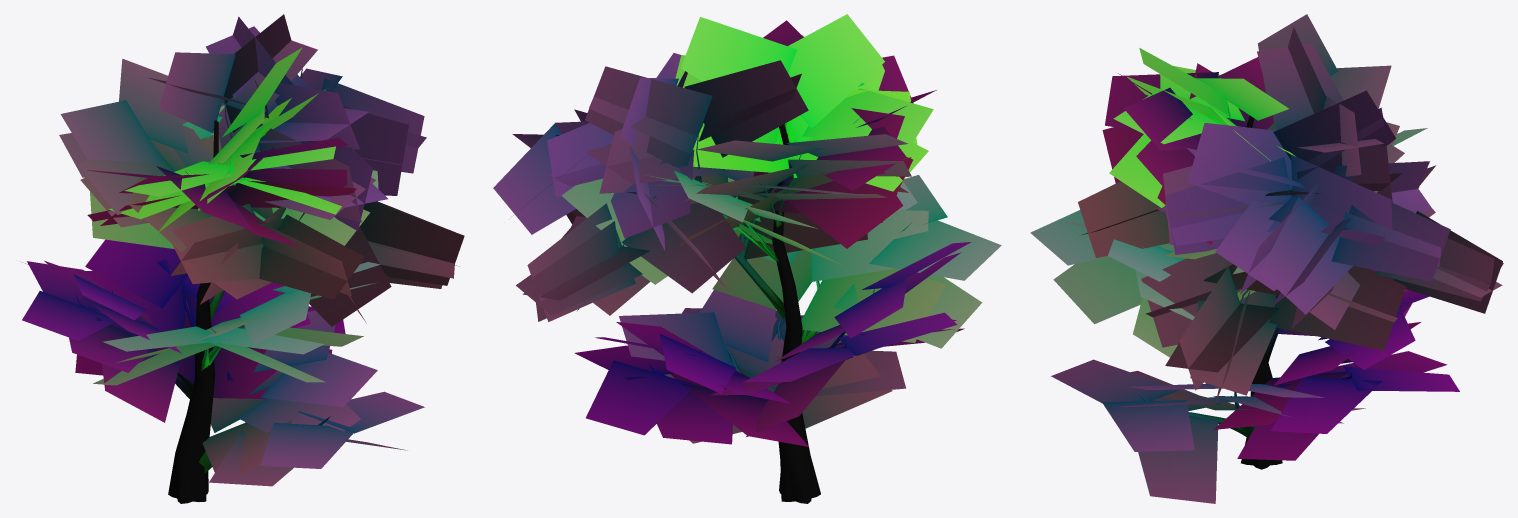
Rendered from M_Realistic12_5.fbx.
3 views of the same model, side by side, from view 1: azimuth 30°, elevation 25°; view 2: azimuth 150°, elevation 25°; view 3: azimuth 270°, elevation 25° (orthographic). The views are drawn at different scales.
Visible parts, largest first — view 1: Tree_5; view 2: Tree_5; view 3: Tree_5.
Boxes of the visible parts, <box> form: Tree_5: <box>22,14,464,503</box>; Tree_5: <box>493,14,1001,503</box>; Tree_5: <box>1030,14,1503,503</box>.
Size of the model in its own units: 1367 by 1353 by 1337.
